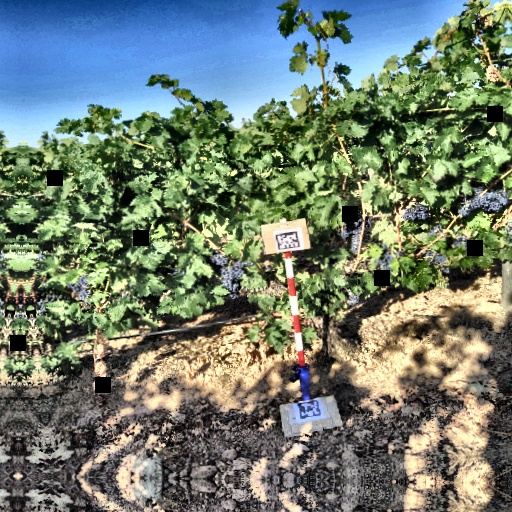QR: (275, 230, 301, 252), (297, 399, 322, 420)
